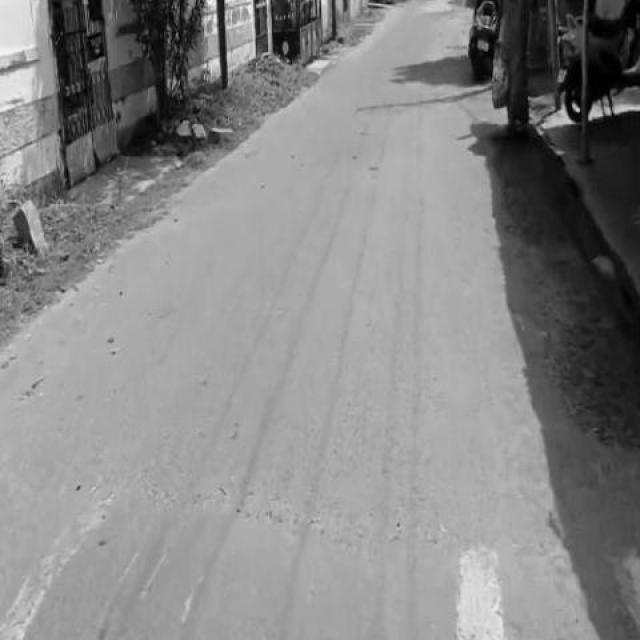Speed Bump: (1, 491, 640, 638)
